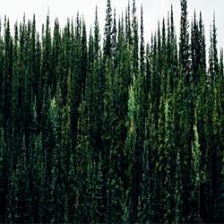neutral: (1, 2, 223, 223)
